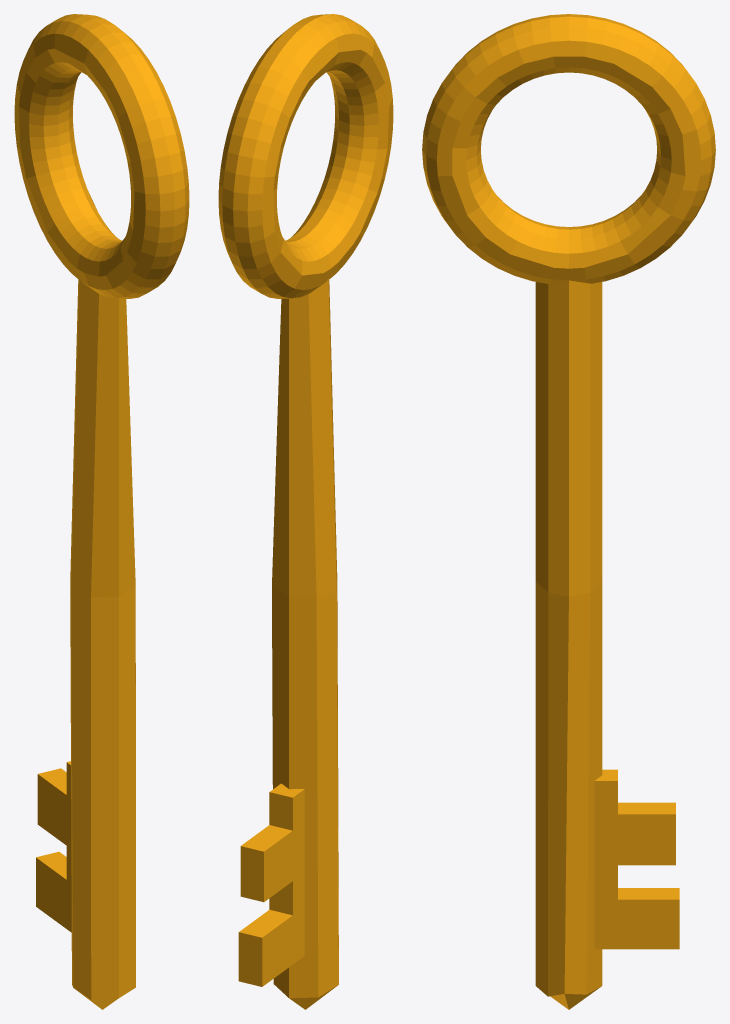
Rendered from key1.glb.
3 renders of one model, left to right at view 1: azimuth 30°, elevation 25°; view 2: azimuth 150°, elevation 25°; view 3: azimuth 270°, elevation 25°, orthographic.
Visible parts, largest first — view 1: Cube.001; view 2: Cube.001; view 3: Cube.001.
Part boxes in pixels (box(x1,y1,x2,y2)): Cube.001: box(14, 14, 189, 1009); Cube.001: box(218, 14, 393, 1009); Cube.001: box(422, 14, 715, 1009).
Size of the model in its own units: 0.7081 by 10.63 by 2.85.
